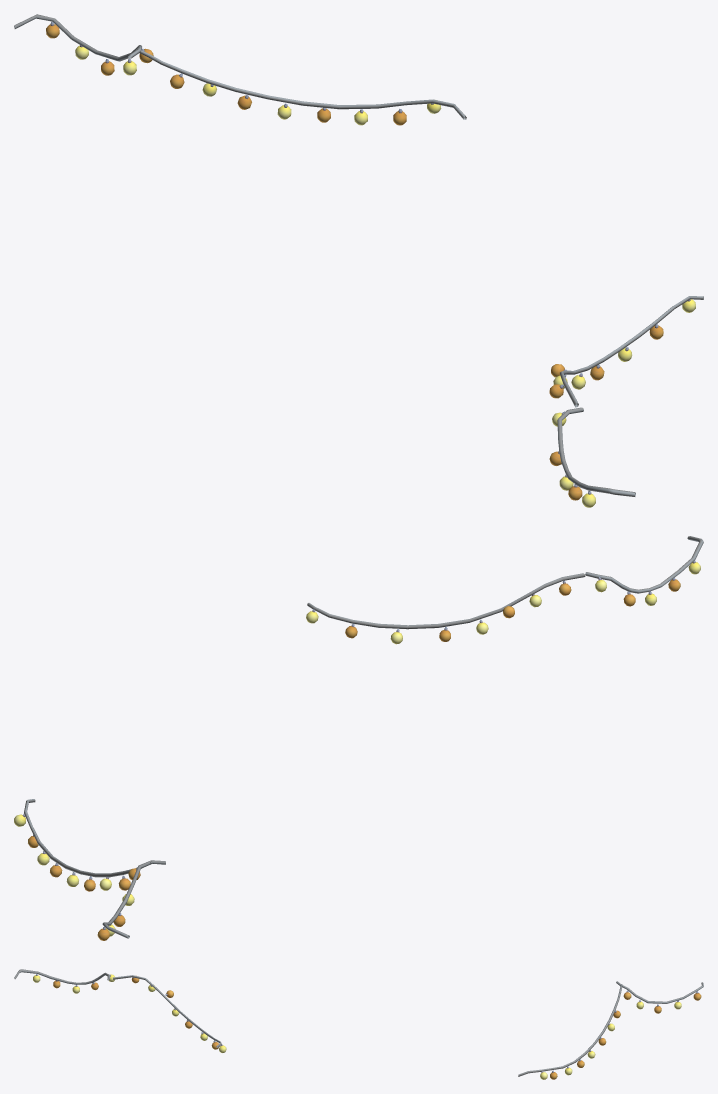
Rendered from pref_sm_beach_winter_lightflag_f_lv3.fbx.
3 views of the same model, one above another, from view 1: azimuth 30°, elevation 25°; view 2: azimuth 150°, elevation 25°; view 3: azimuth 270°, elevation 25° (orthographic). The views are drawn at different scales.
Visible parts, largest first — view 1: pref_sm_beach_winter_lightflag_f_lv3; view 2: pref_sm_beach_winter_lightflag_f_lv3; view 3: pref_sm_beach_winter_lightflag_f_lv3.
Boxes of the visible parts, box(x1,y1,x2,y2) form: pref_sm_beach_winter_lightflag_f_lv3: box(14, 14, 703, 507); pref_sm_beach_winter_lightflag_f_lv3: box(14, 536, 703, 940); pref_sm_beach_winter_lightflag_f_lv3: box(14, 969, 703, 1079).
Size of the model in its own units: 6.19 by 1.57 by 20.78.
